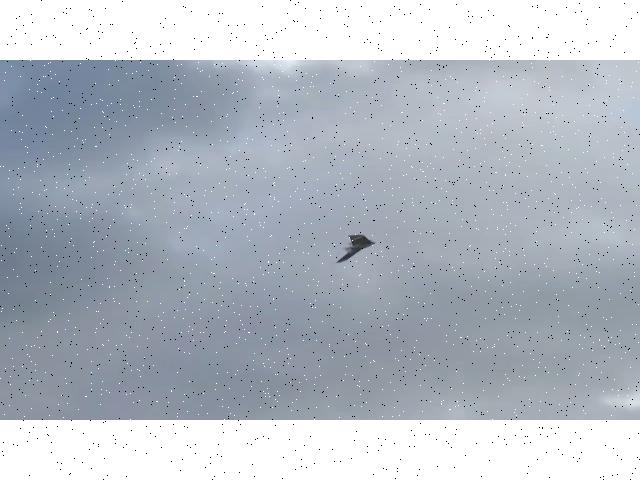Anti-Drone: (336, 233, 376, 263)
